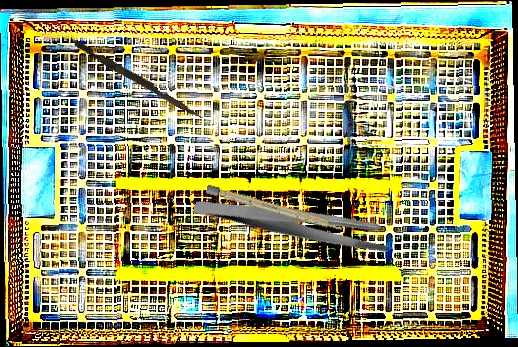Dressing Forceps: (191, 150, 397, 295)
Pusher: (71, 39, 207, 121)
Scalpel Handle: (205, 184, 346, 233)
